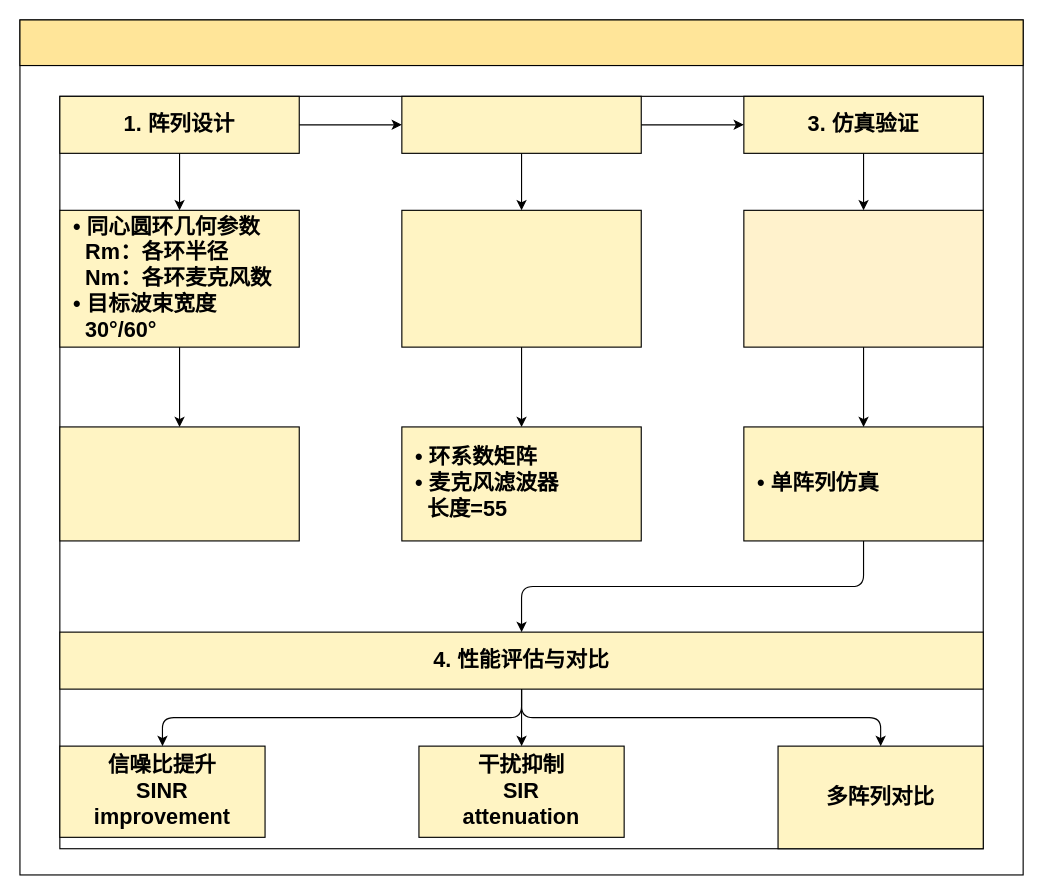
This 1043x895 diagram has some shape labels left out. The centre of each missing label's shape, as x and y in pixels:
"2. 滤波器设计" belongs at point (521, 124).
"• pyroomacoustics 房间声学仿真 • ISM图像源法 • 混响RT60=0.25s" belongs at point (863, 278).
"• 遗传算法优化 半径+权重 • 约束：WNG≥3dB • 恒定波束宽度" belongs at point (179, 483).
"• 频域响应约束 • 恒定波束宽度 • FIR滤波器系数优化" belongs at point (521, 278).
"恒定波束宽度波束形成研究流程" belongs at point (521, 42).
